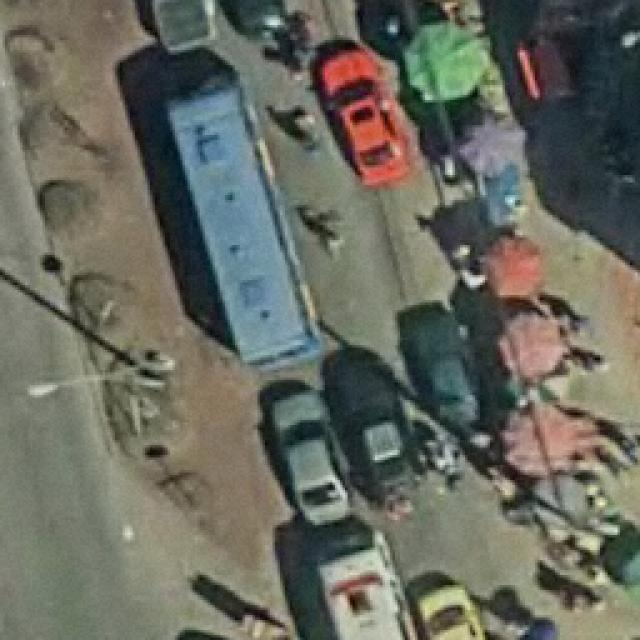vendedor_ambulante: (399, 19, 488, 107), (458, 101, 532, 177), (502, 398, 574, 473), (498, 308, 570, 379), (482, 230, 547, 301)
